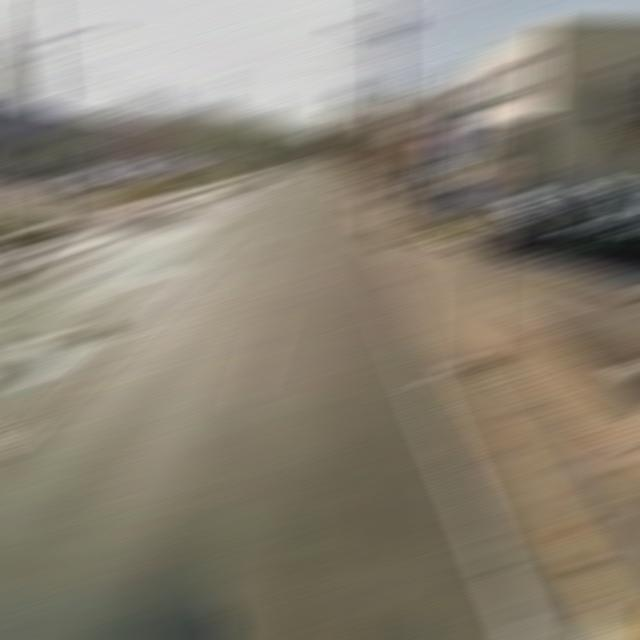speedLimit40: (468, 168, 514, 222)
